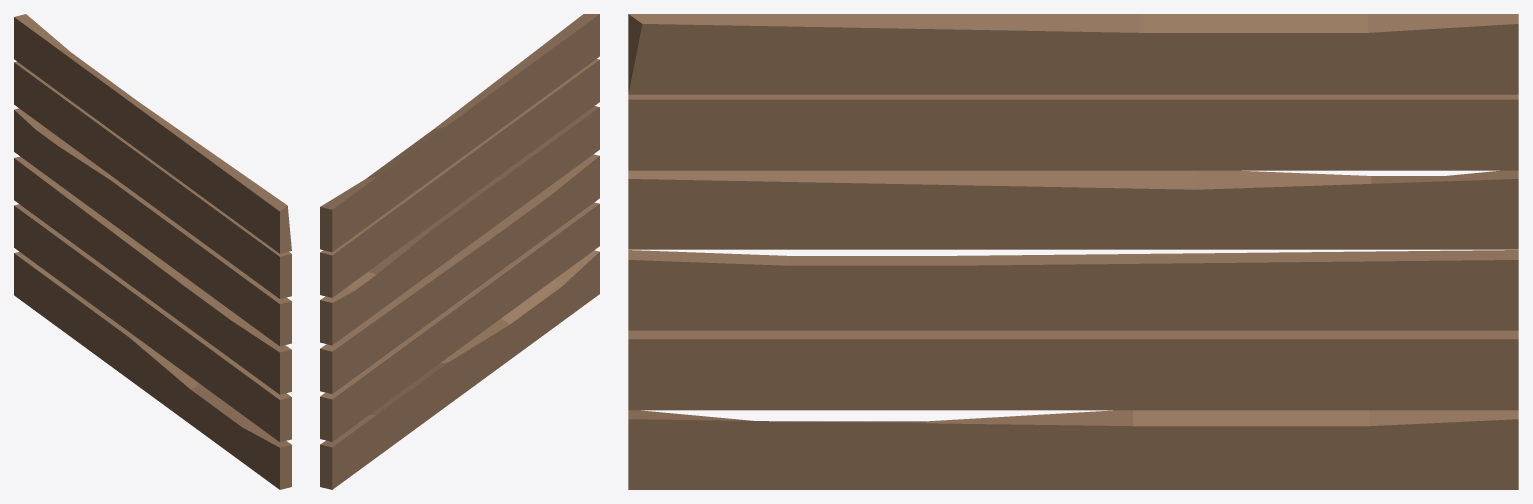
The model's file is mur.fbx.
The picture shows the model from 3 angles, left to right: view 1: azimuth 30°, elevation 25°; view 2: azimuth 150°, elevation 25°; view 3: azimuth 270°, elevation 25°; orthographic projection. The views are drawn at different scales.
Visible parts, largest first — view 1: Cube.005, Cube.002, Cube, Cube.001, Cube.003, Cube.004; view 2: Cube.005, Cube.002, Cube, Cube.001, Cube.003, Cube.004; view 3: Cube.001, Cube.005, Cube.003, Cube.002, Cube.004, Cube.
Part boxes in pixels (bbox=[...]): Cube.005: bbox=[14, 14, 291, 253]; Cube.002: bbox=[14, 156, 291, 394]; Cube: bbox=[14, 252, 291, 489]; Cube.001: bbox=[14, 204, 291, 442]; Cube.003: bbox=[14, 108, 291, 346]; Cube.004: bbox=[14, 61, 291, 298]; Cube.005: bbox=[320, 14, 599, 252]; Cube.002: bbox=[320, 154, 599, 393]; Cube: bbox=[320, 250, 599, 489]; Cube.001: bbox=[320, 202, 599, 441]; Cube.003: bbox=[320, 106, 599, 345]; Cube.004: bbox=[320, 59, 599, 297]; Cube.001: bbox=[628, 330, 1518, 410]; Cube.005: bbox=[628, 14, 1518, 94]; Cube.003: bbox=[628, 170, 1518, 249]; Cube.002: bbox=[628, 250, 1518, 330]; Cube.004: bbox=[628, 94, 1518, 170]; Cube: bbox=[628, 410, 1518, 489].
Bounding box in the file's own units: 31.48 × 692 × 1198.
